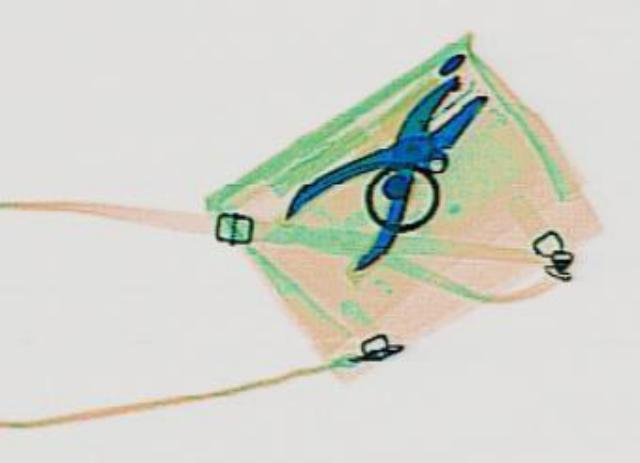Pliers: (253, 59, 532, 274)
